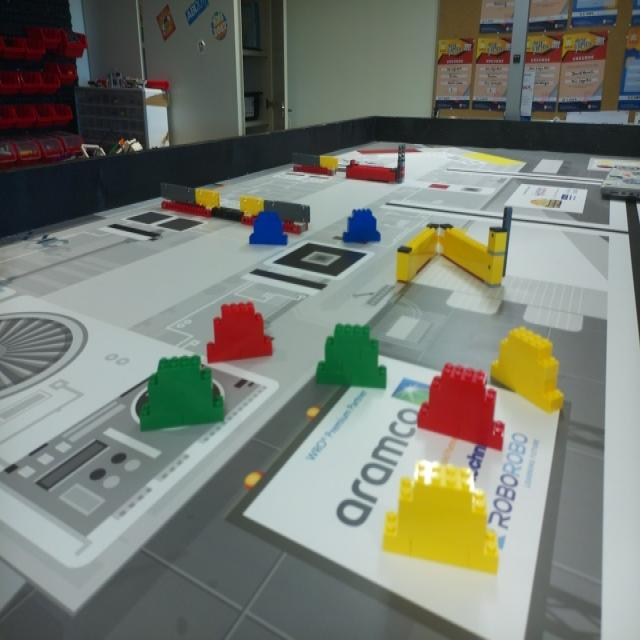blau: (250, 214, 287, 246), (347, 210, 380, 243)
gruen: (139, 357, 226, 430), (320, 323, 387, 390)
rot: (417, 364, 502, 451), (211, 302, 273, 364)
yellow: (391, 461, 500, 574), (494, 331, 564, 413)
